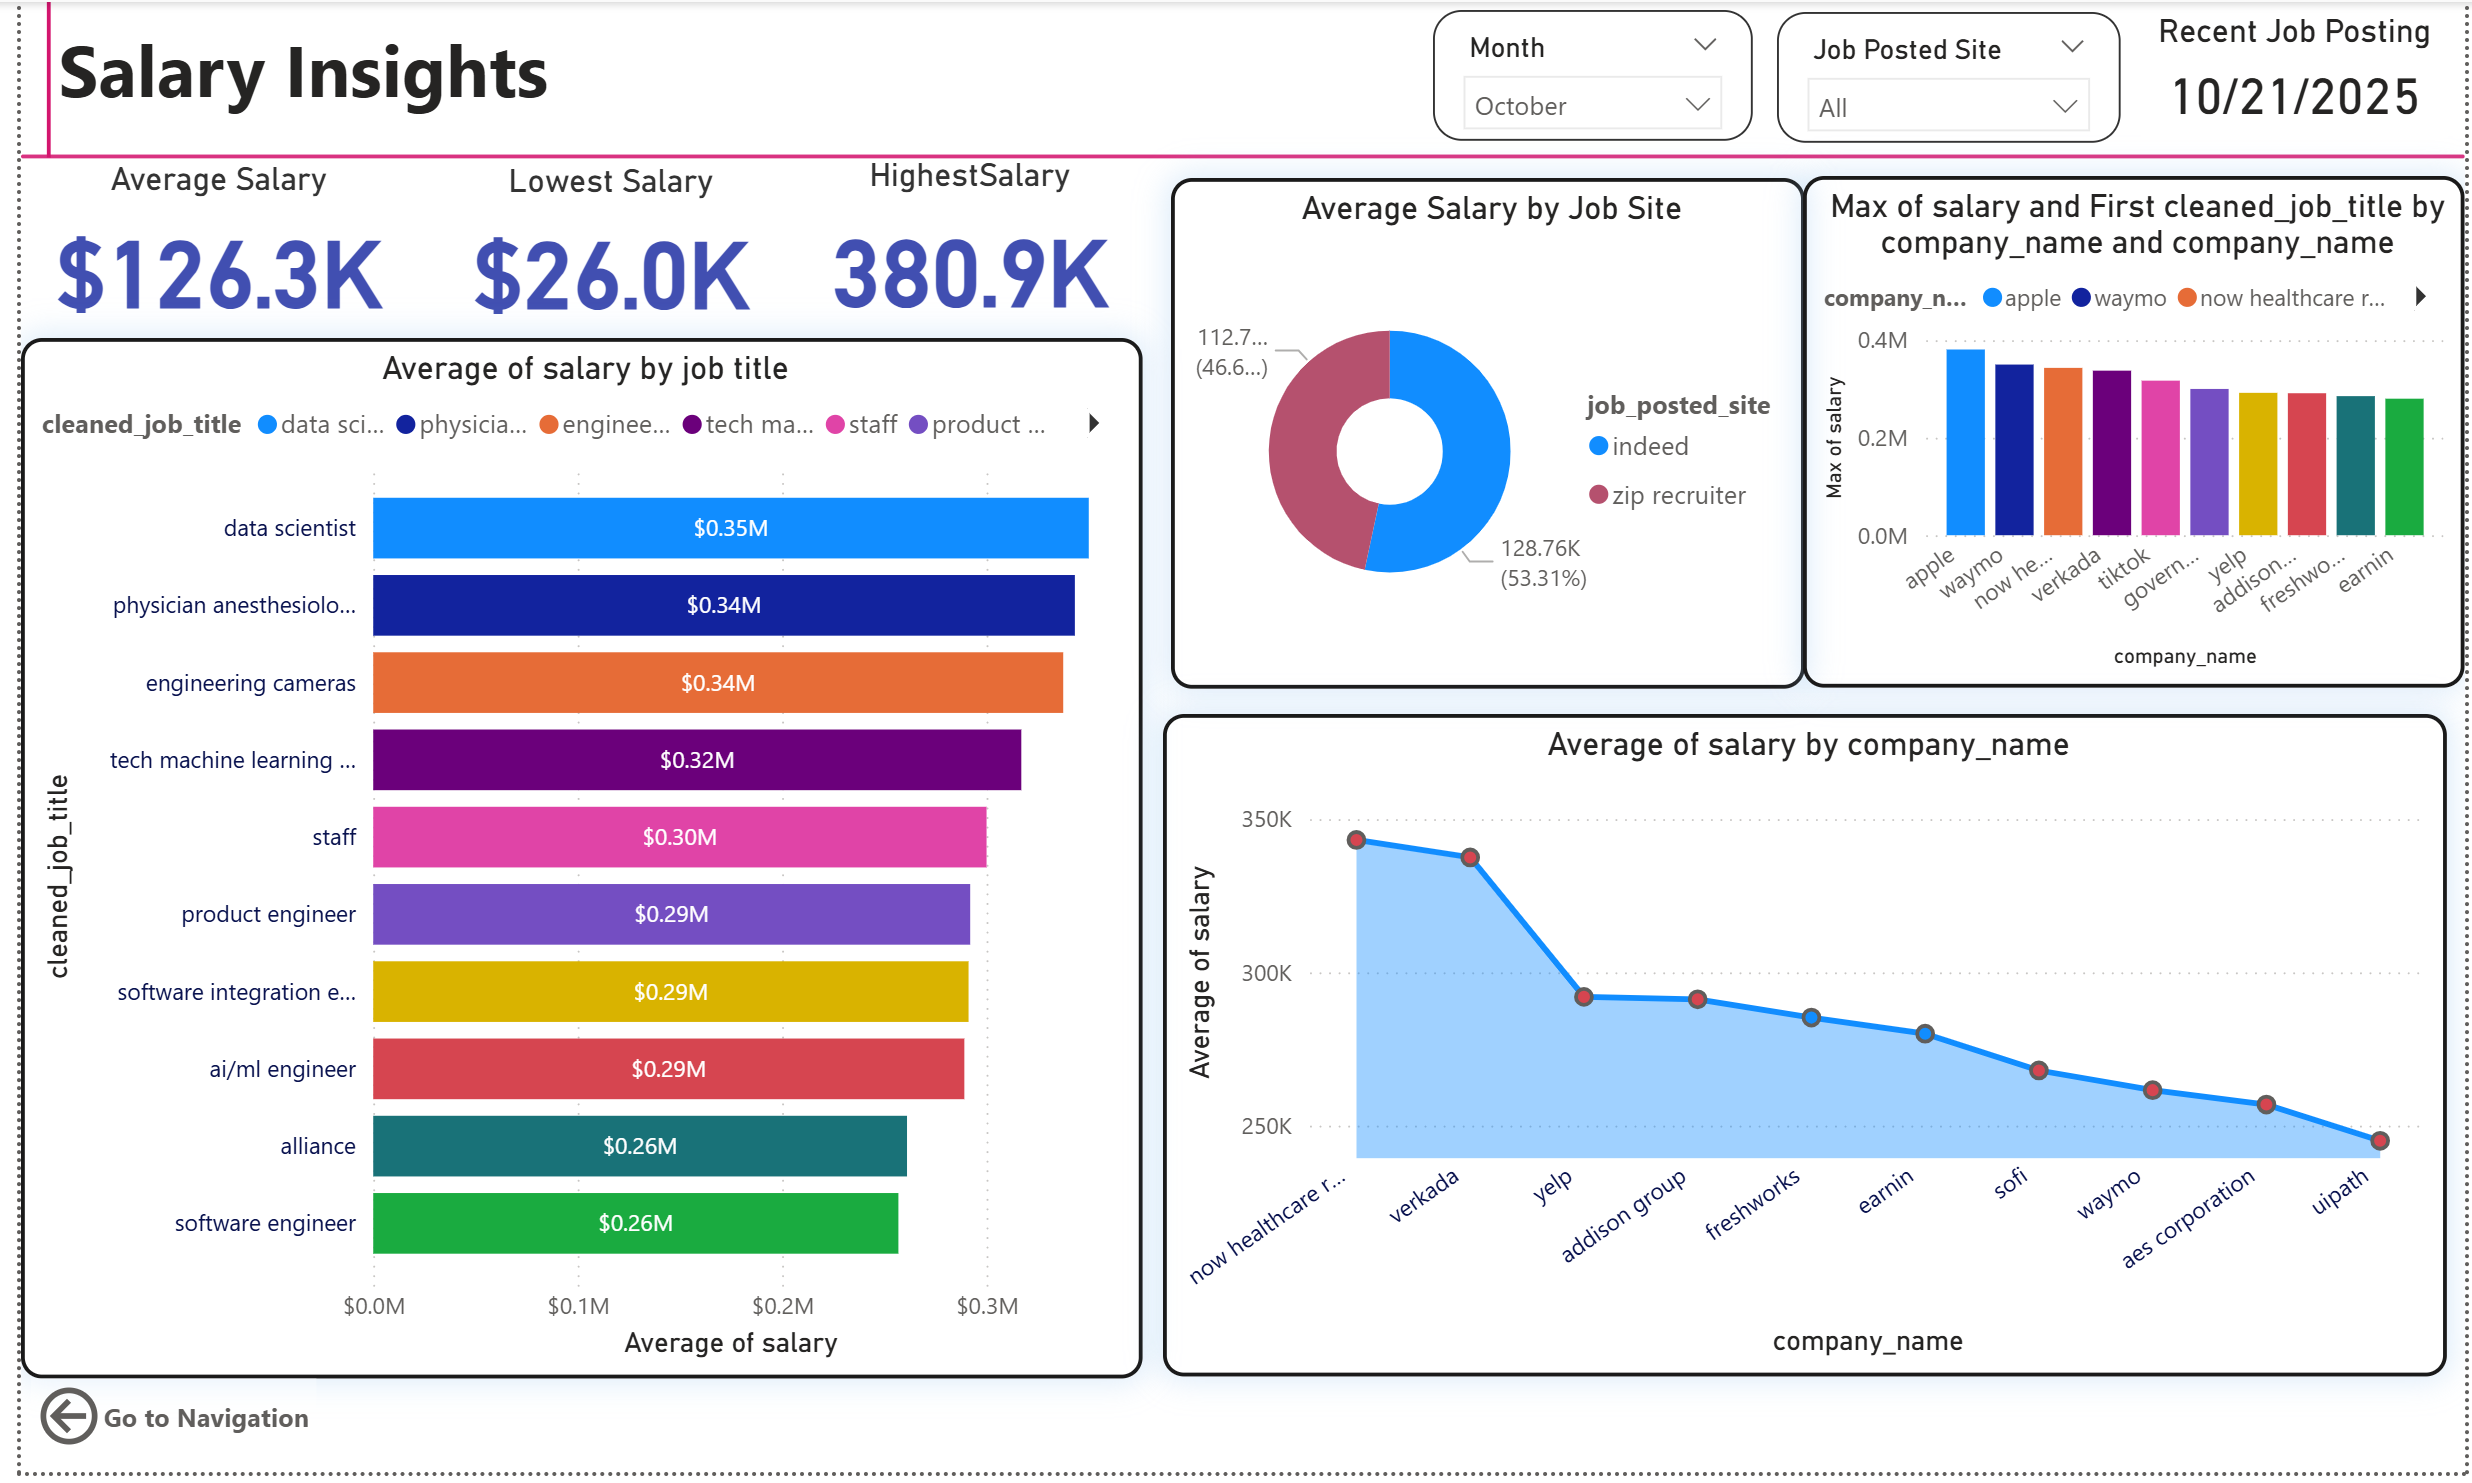

What the dashboard file says about the page in this screenshot:
{"tool":"powerbi","page":{"name":"Salary Insights","canvas":[1280,770],"ordinal":3},"visuals":[{"type":"shape","box":[0,70,1280,21.4],"z":0},{"type":"textbox","box":[15.1,4.7,421.2,62.8],"z":2000},{"type":"shape","box":[0,0,29.1,81.5],"z":3000},{"type":"card","title":"Average Salary","fields":{"Values":["job_data.Aaverage Salary"]},"box":[0,82.3,207.2,91.9],"z":4000},{"type":"card","title":"Lowest Salary","fields":{"Values":["Table.Lowest Salary"]},"box":[211.3,83.7,194.9,90.6],"z":5000},{"type":"barChart","title":"Average of salary by job title","fields":{"Y":["Avg(job_data.salary)"],"Category":["job_data.cleaned_job_title"],"Series":["job_data.cleaned_job_title"]},"box":[0,175.6,587.3,544.8],"z":6000},{"type":"donutChart","title":"Average Salary by Job Site","fields":{"Category":["job_data.job_posted_site"],"Y":["Avg(job_data.salary)"]},"box":[602.4,91.9,332.1,267.6],"z":7000},{"type":"slicer","fields":{"Values":["job_data.job_posted_site"]},"box":[919.6,4.9,179.8,68.5],"z":8000},{"type":"slicer","fields":{"Values":["job_data.job_posted_date.Variation.Date Hierarchy.Month","job_data.job_posted_date.Variation.Date Hierarchy.Day"]},"box":[740.1,4.7,167.6,68.7],"z":9000},{"type":"card","title":"HighestSalary","fields":{"Values":["job_data.Highest Salary"]},"box":[406.2,81,181.1,94.7],"z":10000},{"type":"areaChart","fields":{"Category":["job_data.company_name"],"Y":["Avg(job_data.salary)"]},"box":[598.3,373.2,672.4,347.2],"z":11000},{"type":"actionButton","box":[5.5,721,149.7,39.8],"z":12000},{"type":"columnChart","fields":{"Category":["job_data.company_name"],"Y":["Max(job_data.salary)"],"Series":["job_data.company_name"]},"box":[933.8,91,346.7,268.2],"z":13000},{"type":"card","title":"Recent Job Posting","fields":{"Values":["job_data.Recent job date"]},"box":[1110,5.7,160.9,66.1],"z":14000}]}

Visuals, with their boxes in screenshot pixels (x1, y1, x2, y2), scaled from the page's 1280x770 canvas onto the 2472x1483 screenshot:
shape: [x1=0, y1=135, x2=2471, y2=176]
textbox: [x1=29, y1=9, x2=843, y2=130]
shape: [x1=0, y1=0, x2=56, y2=157]
"Average Salary" card: [x1=0, y1=159, x2=400, y2=336]
"Lowest Salary" card: [x1=408, y1=161, x2=784, y2=336]
"Average of salary by job title" barChart: [x1=0, y1=338, x2=1134, y2=1387]
"Average Salary by Job Site" donutChart: [x1=1163, y1=177, x2=1805, y2=692]
slicer - job_data.job_posted_site: [x1=1776, y1=9, x2=2123, y2=141]
slicer - job_data.job_posted_date.Variation.Date Hierarchy.Month x job_data.job_posted_date.Variation.Date Hierarchy.Day: [x1=1429, y1=9, x2=1753, y2=141]
"HighestSalary" card: [x1=784, y1=156, x2=1134, y2=338]
areaChart - job_data.company_name x Avg(job_data.salary): [x1=1155, y1=719, x2=2454, y2=1387]
actionButton: [x1=11, y1=1389, x2=300, y2=1465]
columnChart - job_data.company_name x Max(job_data.salary): [x1=1803, y1=175, x2=2471, y2=692]
"Recent Job Posting" card: [x1=2144, y1=11, x2=2454, y2=138]
